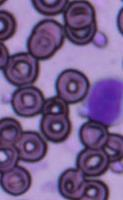L: (81, 76, 123, 127)
